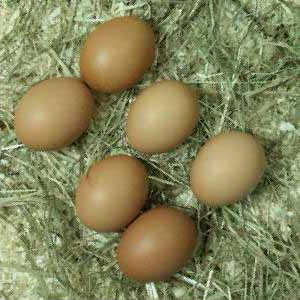egg: (115, 207, 198, 283), (187, 131, 266, 208), (76, 155, 150, 234), (80, 17, 156, 93), (14, 78, 93, 151), (124, 80, 200, 154)
